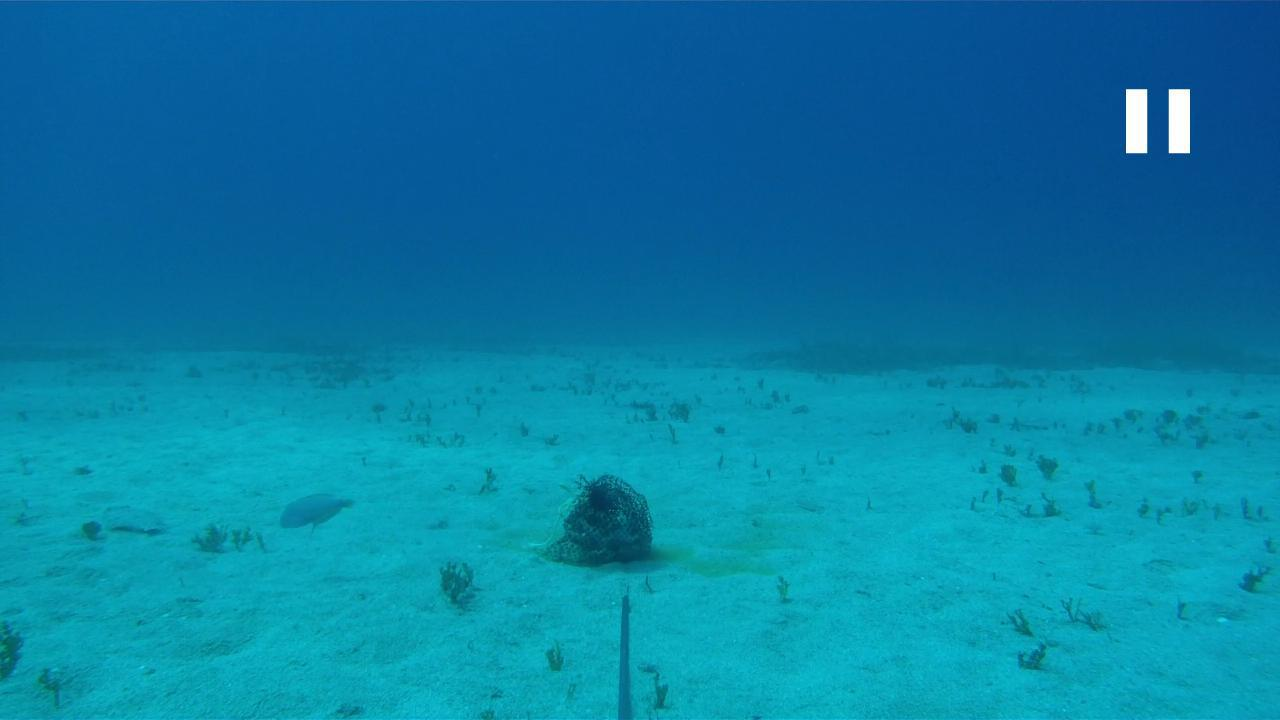bothus: (97, 500, 168, 540)
